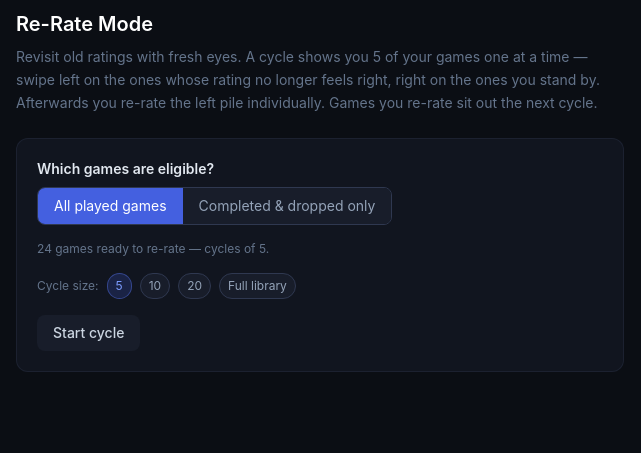
Test: RerateMode — idle screen › eligibility sentences and gating › honours a persisted cycle size and passes it to the session
Expected: the text "24 games ready to re-rate — cycles of 5." is shown, [37, 241, 269, 256]
Step 1. Click the button "Start cycle" → (89, 333), box [37, 315, 140, 351]
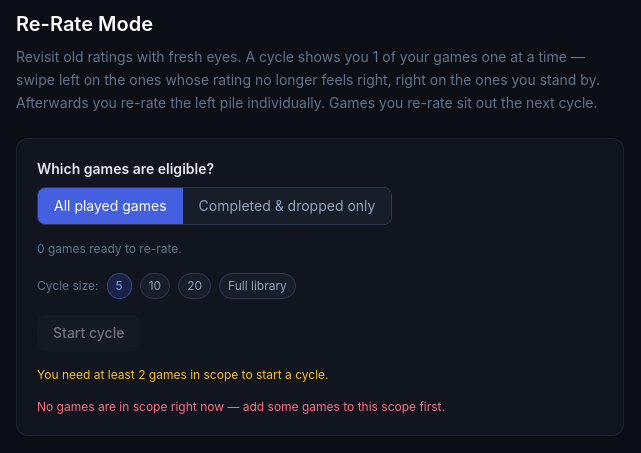
Expected: the text "No games are in scope right now" is shown, [37, 399, 445, 414]
